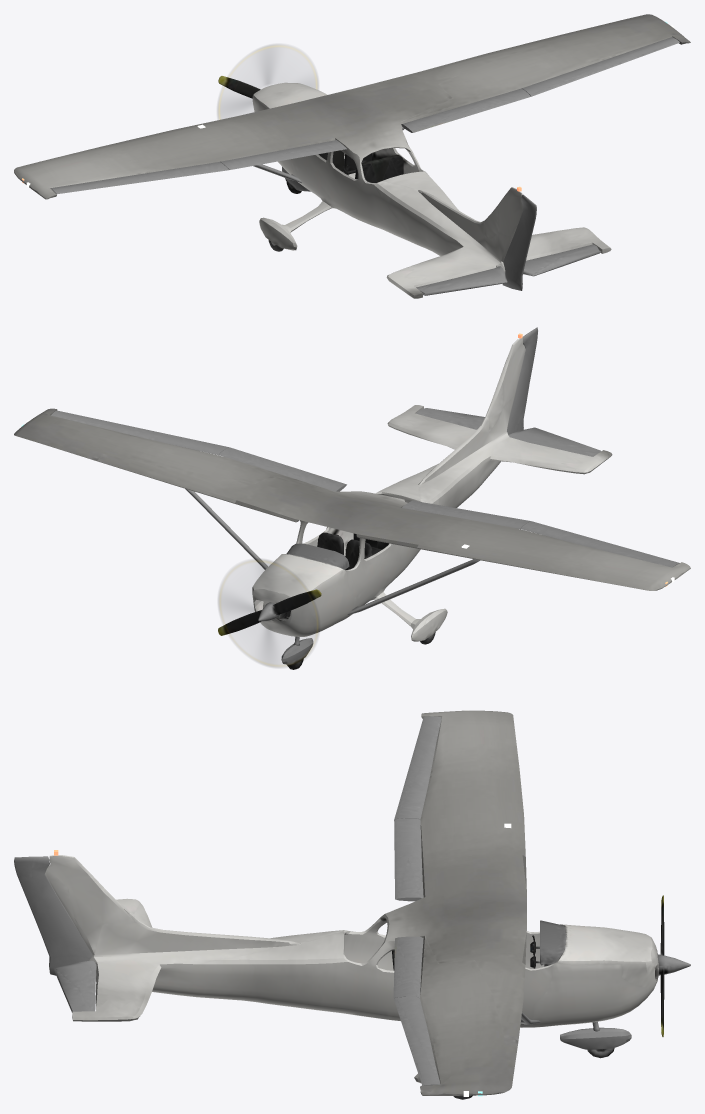
Rendered from c172s_exterior.glb.
3 views of the same model, one above another, from view 1: azimuth 30°, elevation 25°; view 2: azimuth 150°, elevation 25°; view 3: azimuth 270°, elevation 25° (orthographic). The views are drawn at different scales.
Visible parts, largest first — view 1: Fuselage, PropBlurDisc, PropBlades; view 2: Fuselage, PropBlurDisc, PropBlades; view 3: Fuselage.
Boxes of the visible parts, x1=… form: Fuselage: x1=14, y1=14, x2=690, y2=298; PropBlurDisc: x1=217, y1=45, x2=318, y2=119; PropBlades: x1=218, y1=76, x2=260, y2=98; Fuselage: x1=14, y1=327, x2=690, y2=669; PropBlurDisc: x1=218, y1=559, x2=319, y2=667; PropBlades: x1=218, y1=589, x2=321, y2=635; Fuselage: x1=14, y1=710, x2=658, y2=1099.
Bounding box in the file's own units: 11 × 2.77 × 8.24.
8 materials, 3 textured.
